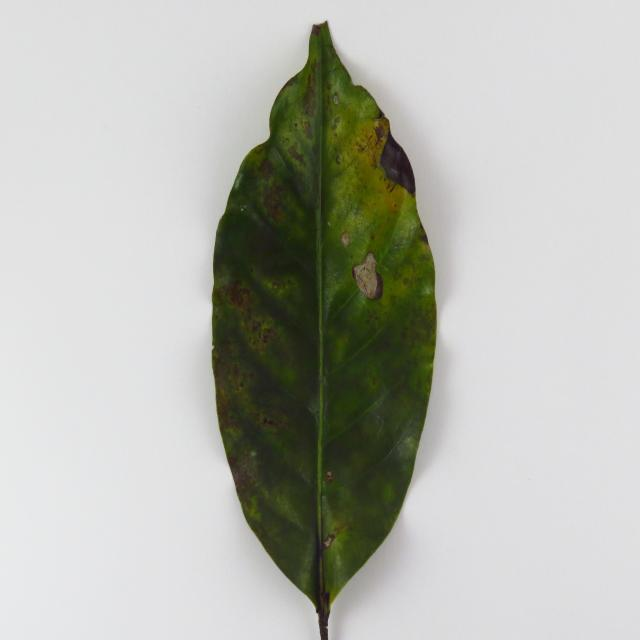DeficienciaNutricional-Magnesio: (212, 23, 436, 638)
